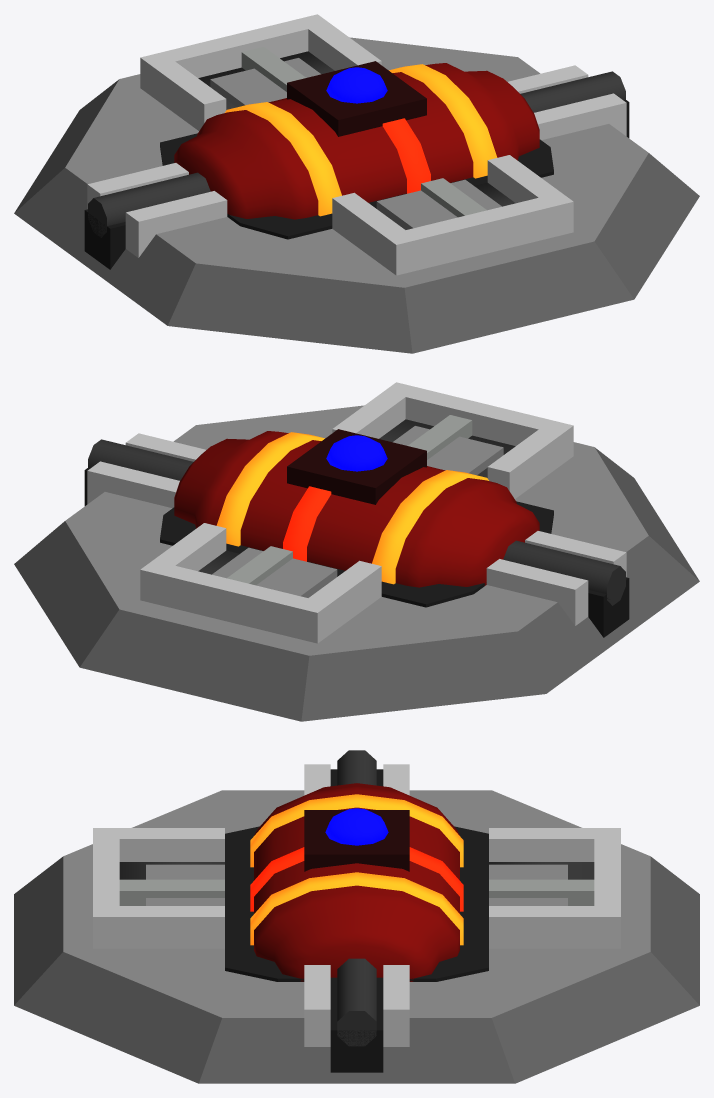
The model's file is newshk-245.glb.
3 views of the same model, one above another, from view 1: azimuth 30°, elevation 25°; view 2: azimuth 150°, elevation 25°; view 3: azimuth 270°, elevation 25° (orthographic). The views are drawn at different scales.
Visible parts, largest first — view 1: newshk-245; view 2: newshk-245; view 3: newshk-245.
Part boxes in pixels (box(x1,y1,x2,y2)): newshk-245: box(14, 14, 699, 353); newshk-245: box(14, 382, 699, 721); newshk-245: box(14, 750, 699, 1083).
Size of the model in its own units: 2 by 0.5075 by 2.17.
